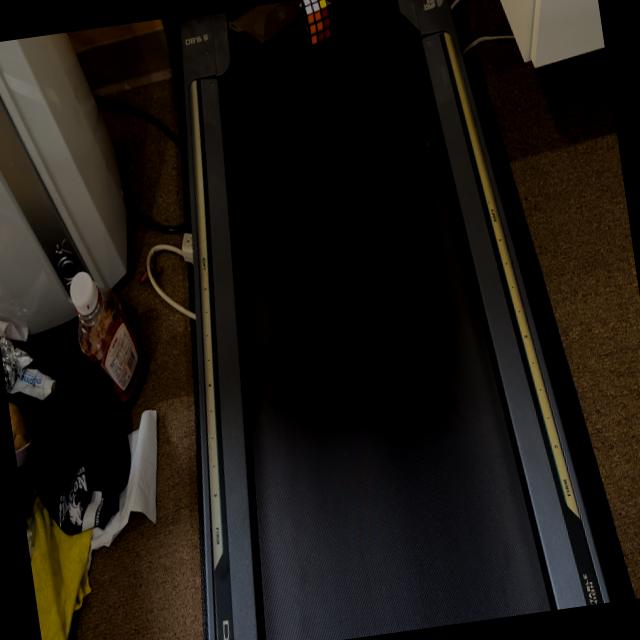Trash: (299, 0, 335, 51)
